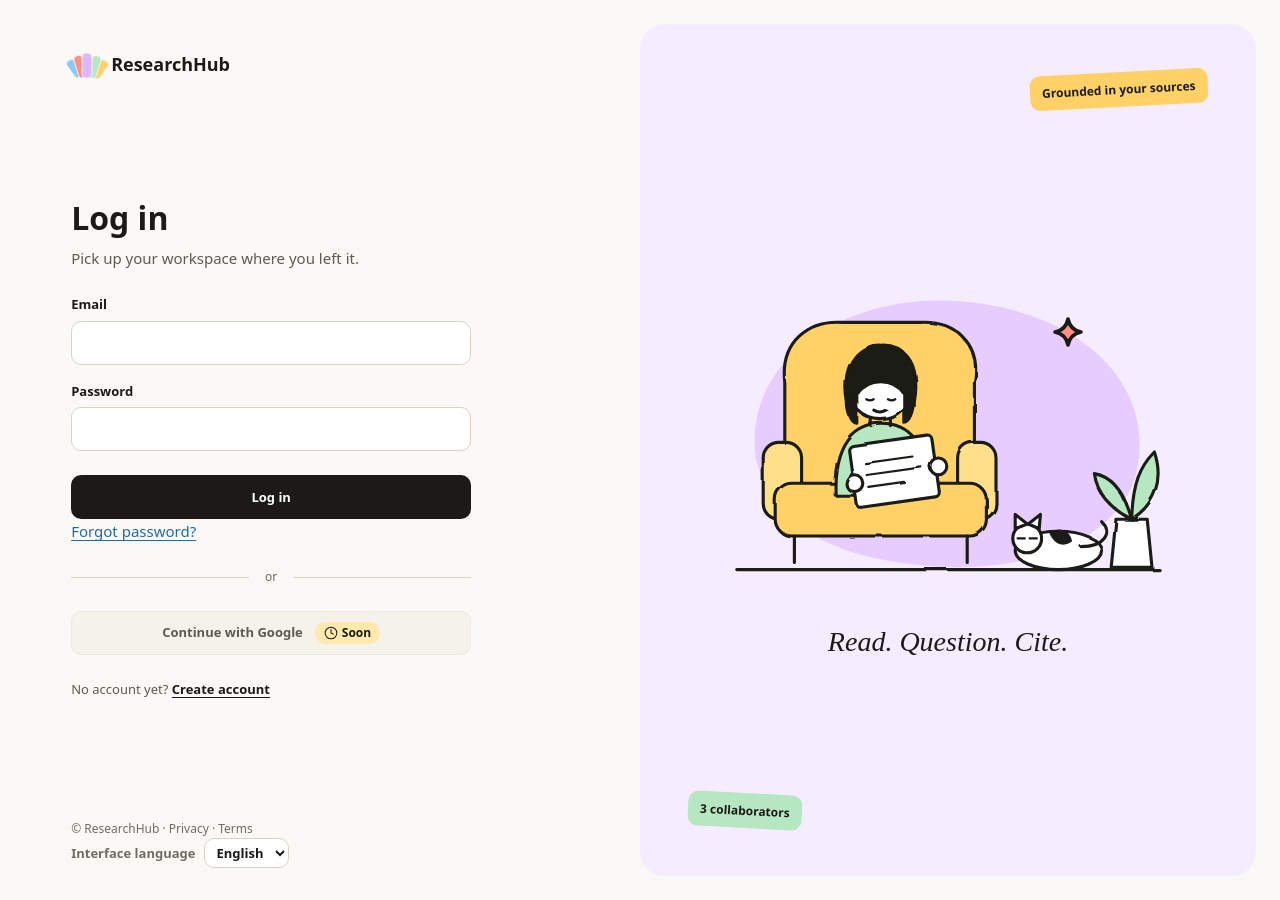
Test: LoginPage › preserves field errors from ProblemDetail and their accessible associations
This screenshot has width=1280, height=900.
Type "ada@example.com" into the field labelled "Email" at (271, 343), box [71,321,471,365]
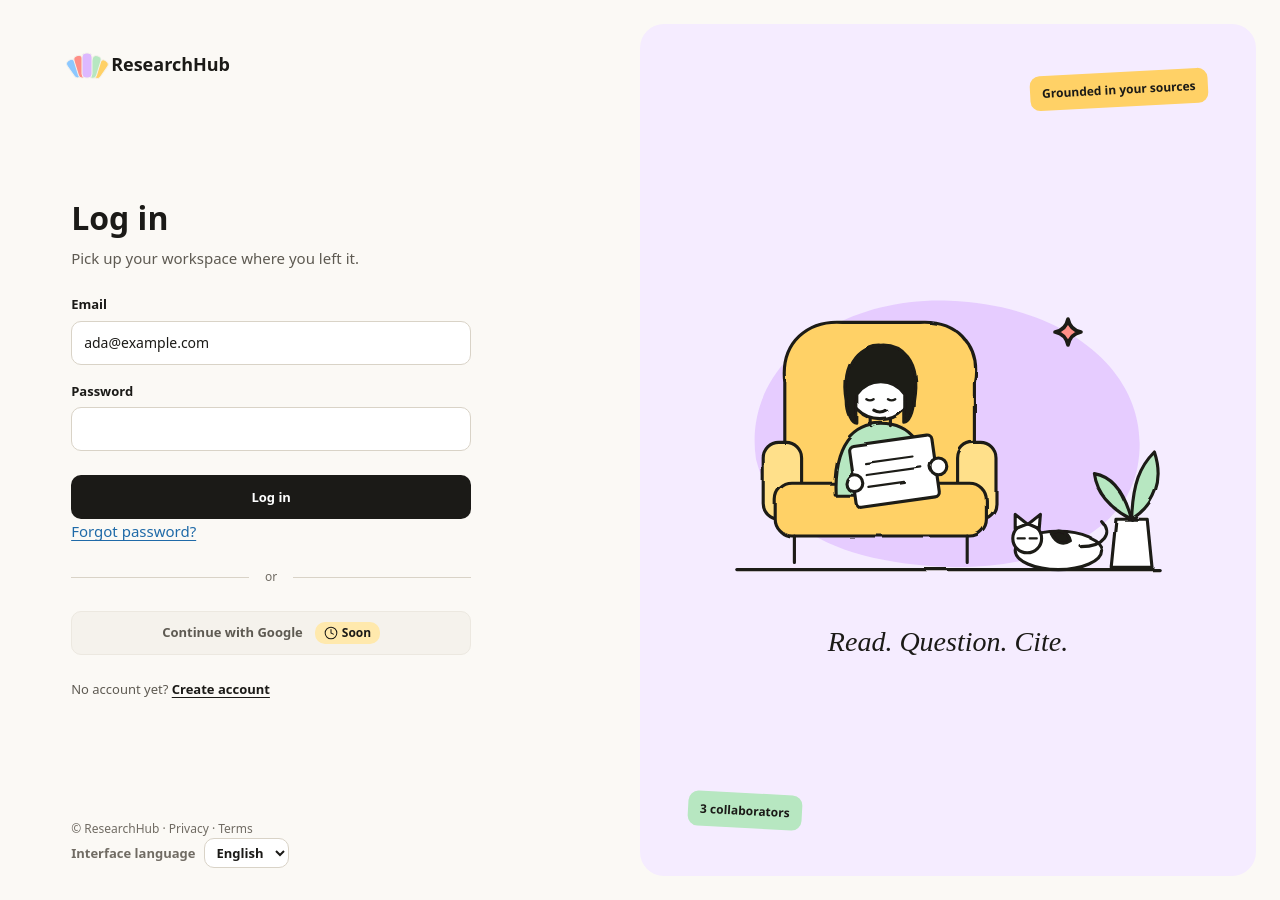
Type "a-long-enough-password" into the password field labelled "Password" at (271, 429), box [71,407,471,451]
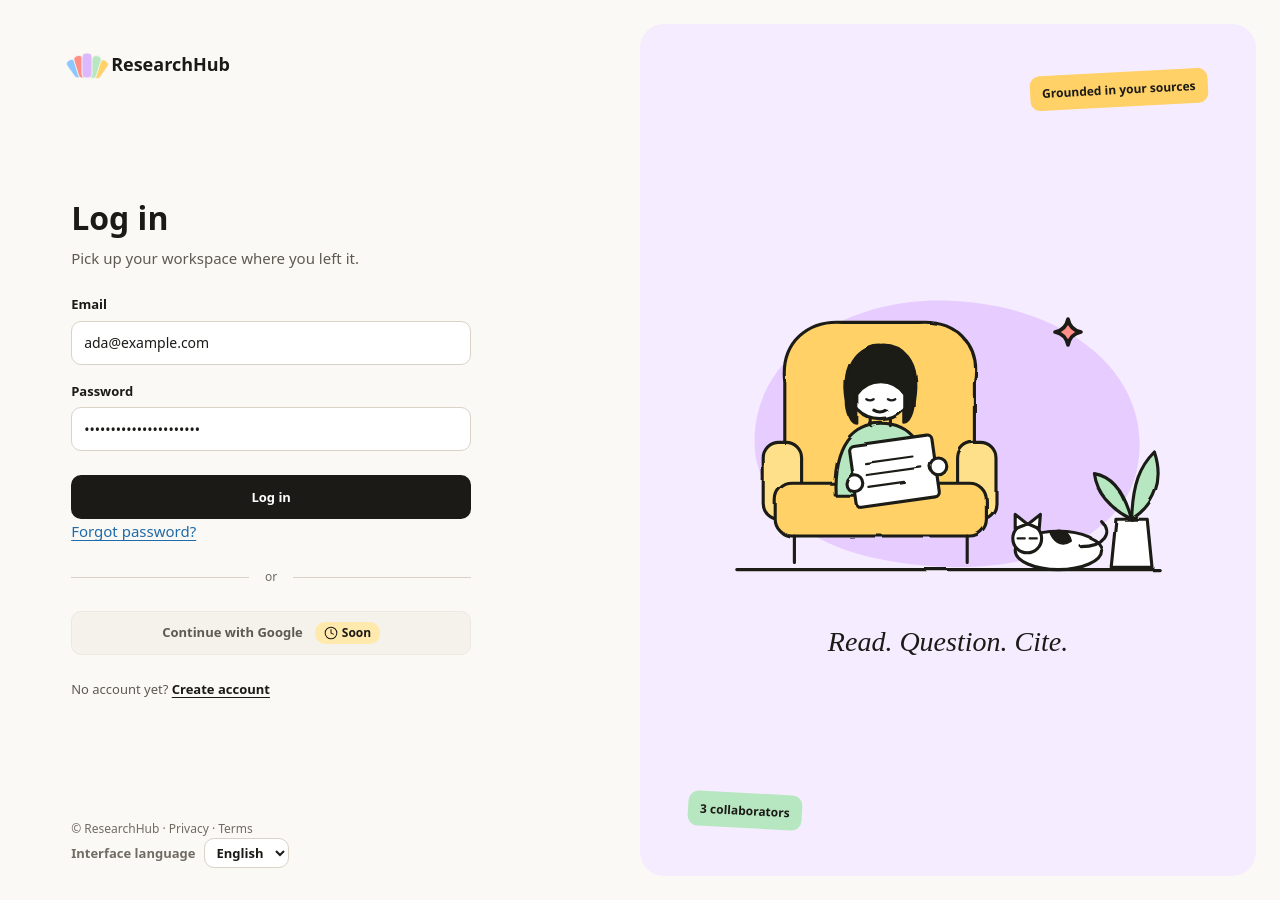
Click the button "Log in" at (271, 497), box [71,475,471,519]
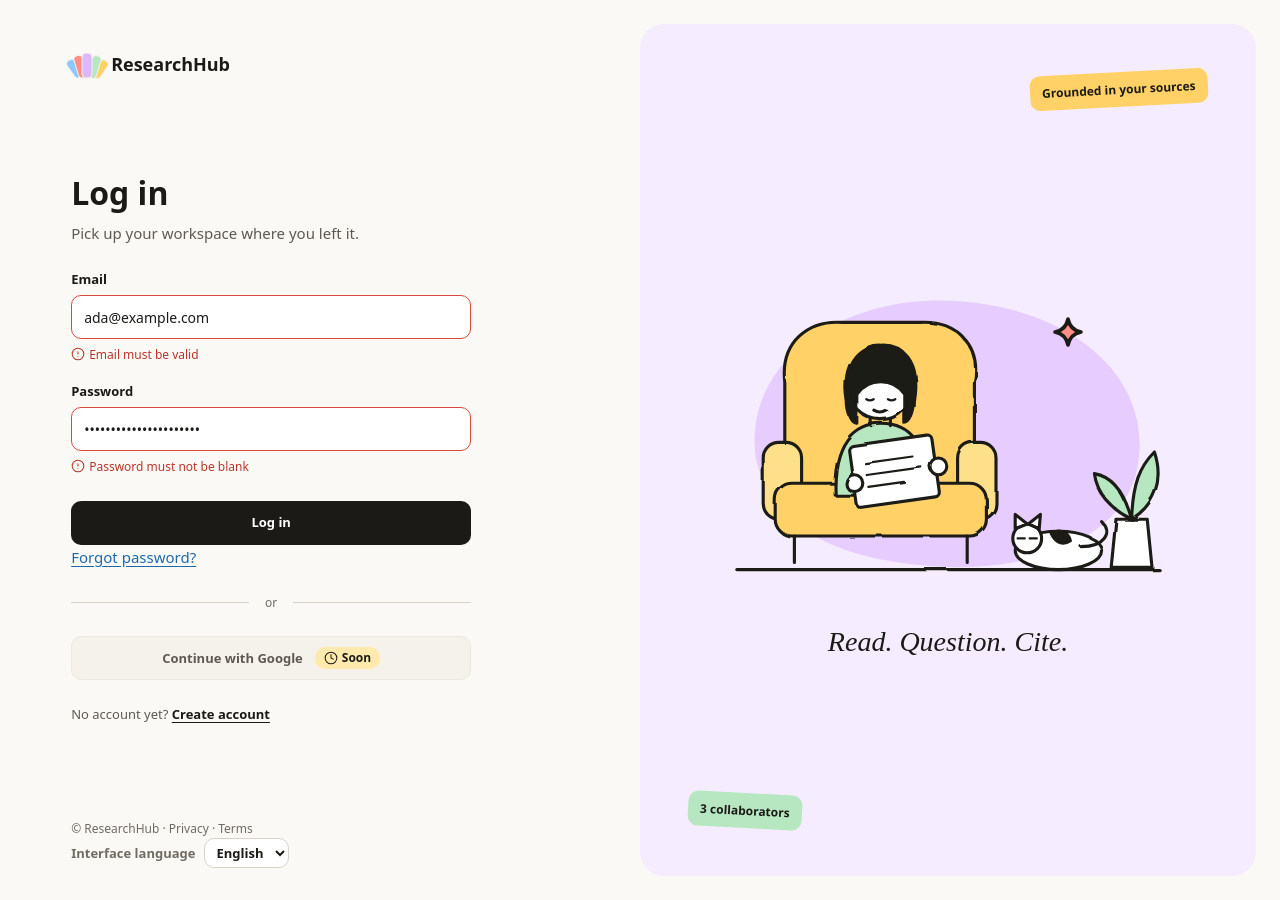
Now the text "Email must be valid" is shown, box [71,346,199,363]
